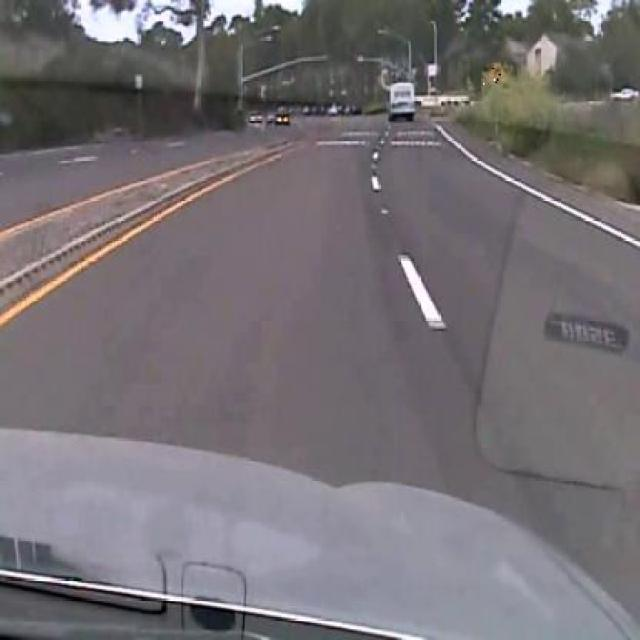signalAhead: (483, 62, 508, 92)
